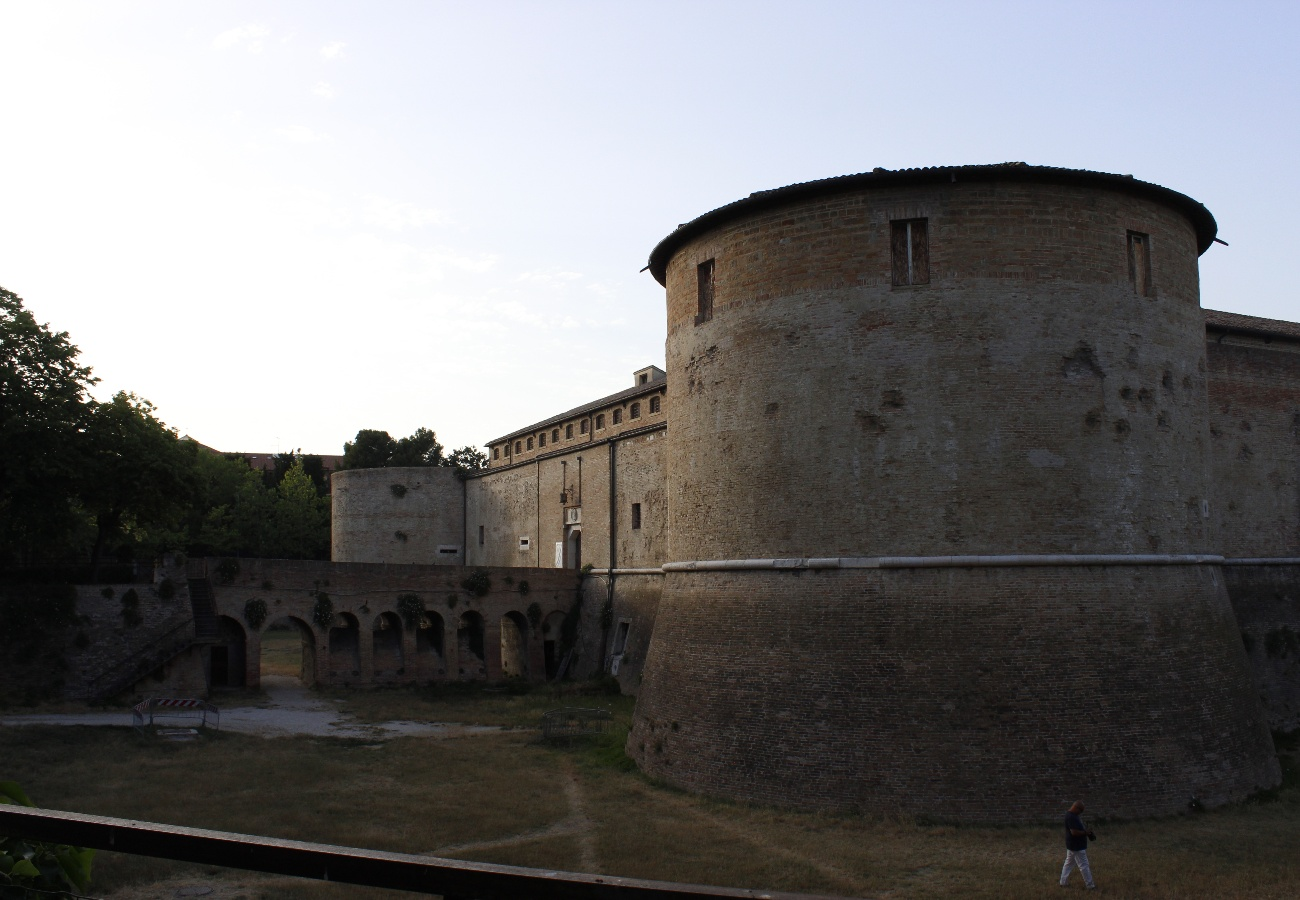Rocca Costanza: (193, 161, 1300, 696)
